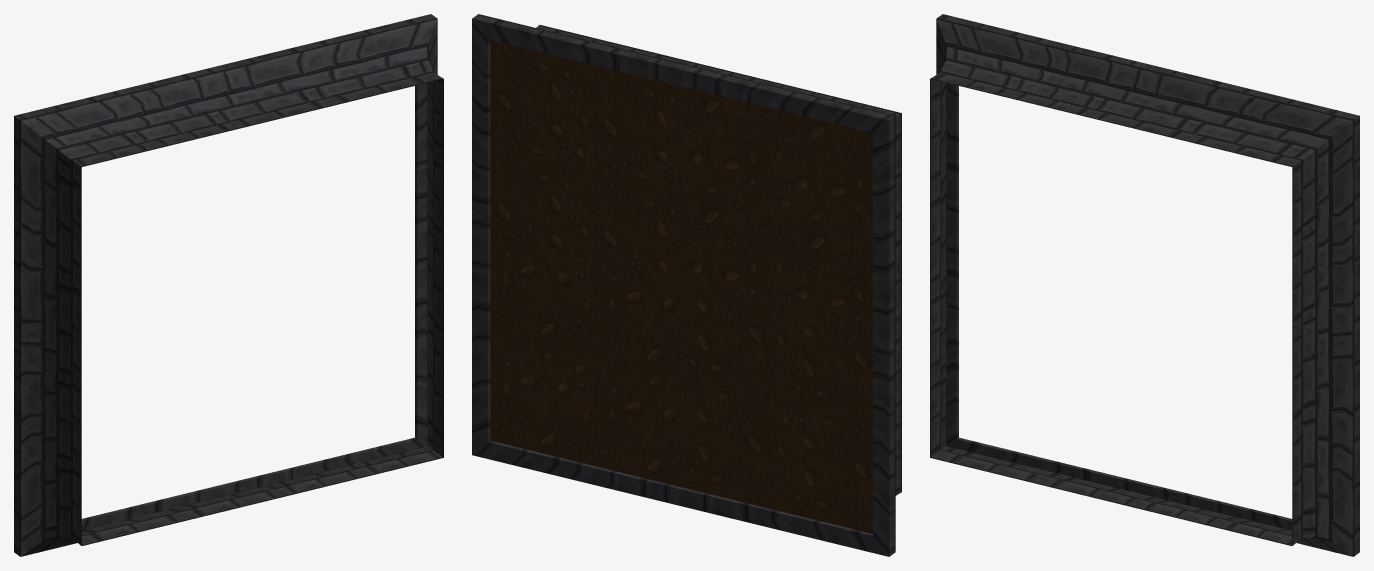
The model's file is flowerPlanter.dae.
The picture shows the model from 3 angles, left to right: view 1: azimuth 30°, elevation 25°; view 2: azimuth 150°, elevation 25°; view 3: azimuth 330°, elevation 25°; orthographic projection.
Visible parts, largest first — view 1: Cube_003; view 2: Cube_003; view 3: Cube_003.
Part boxes in pixels (bbox=[...]): Cube_003: bbox=[14, 14, 443, 556]; Cube_003: bbox=[472, 14, 901, 556]; Cube_003: bbox=[930, 14, 1359, 556].
Bounding box in the file's own units: 6 × 1 × 6.
2 materials, 2 textured.
